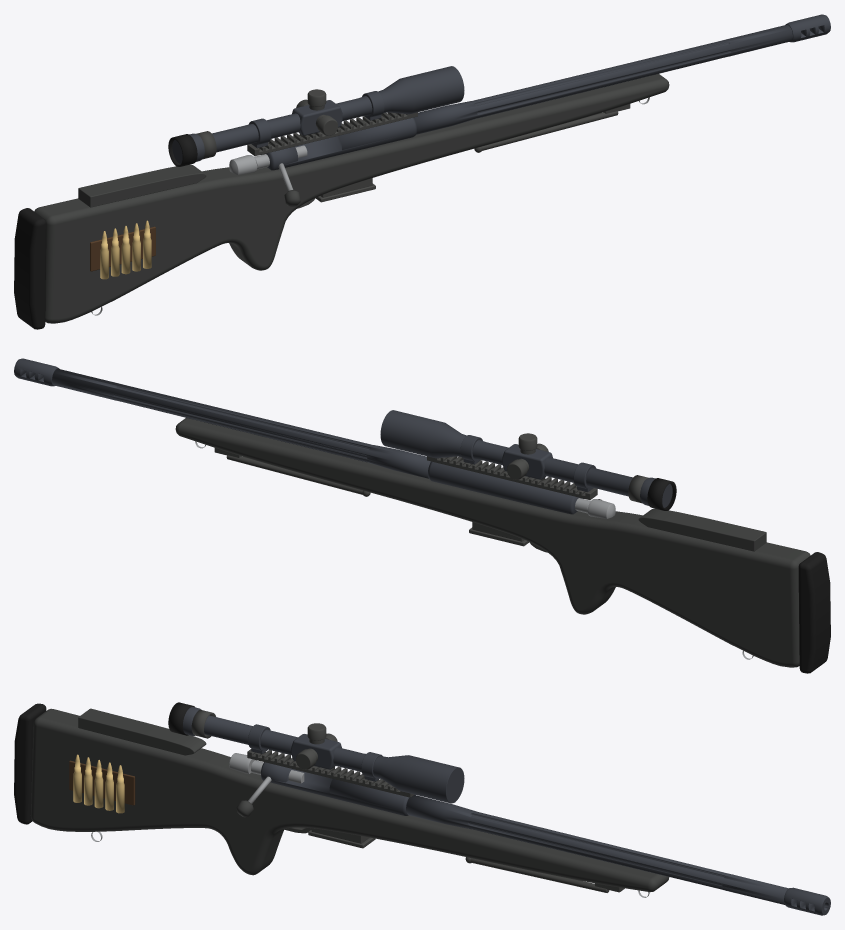
File: sniper.glb
3 renders of one model, top to bottom at view 1: azimuth 30°, elevation 25°; view 2: azimuth 150°, elevation 25°; view 3: azimuth 330°, elevation 25°, orthographic.
Visible parts, largest first — view 1: body-polymer, body-blued, body-parker, body-rubber, bolt-steel, body-leather; view 2: body-polymer, body-blued, body-parker, body-rubber, bolt-steel; view 3: body-polymer, body-blued, body-parker, body-rubber, body-leather, bolt-steel.
Part boxes in pixels (x1,y1,x2,y2): body-polymer: (34,74,669,323); body-blued: (172,14,830,170); body-parker: (196,89,630,208); body-rubber: (14,134,197,329); bolt-steel: (229,145,307,190); body-leather: (90,226,155,271); body-polymer: (175,418,810,667); body-blued: (14,358,672,514); body-parker: (214,433,648,552); body-rubber: (647,478,830,673); bolt-steel: (575,498,615,518); body-polymer: (30,708,669,892); body-blued: (183,707,830,915); body-parker: (191,710,624,892); body-rubber: (14,702,194,824); body-leather: (69,760,135,805); bolt-steel: (229,753,304,803).
Bounding box in the file's own units: 1.28 × 0.256 × 0.1149.
